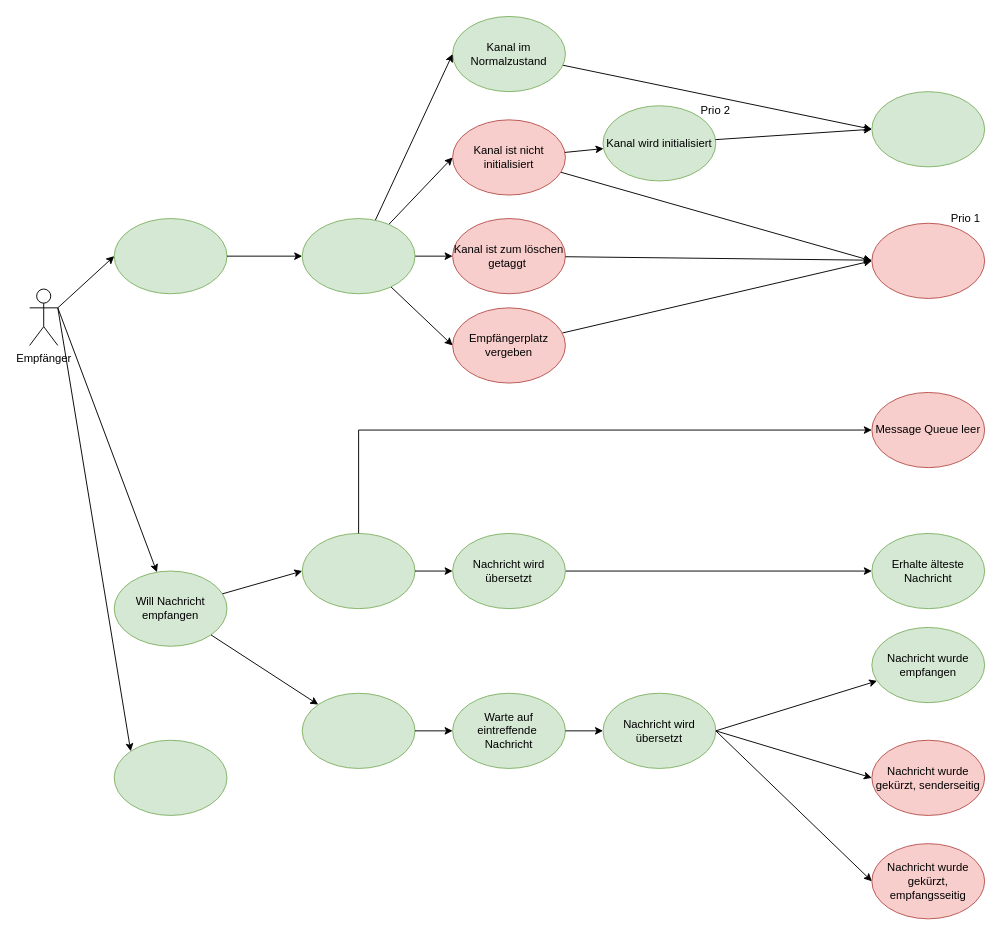
Image size: 1001x935. Some labels were removed from this diagram. Here are the shapes that lost their labels. From the top down, the box of each, then its label:
(871, 91, 985, 167): Sender bekommt Referenz auf den gewünschten Kanal
(113, 218, 227, 294): Will sich in einem Chanel anmelden
(301, 218, 415, 294): Schickt der ConnectUnit eine Verbindungsanfrage
(871, 222, 985, 298): Verbindung wird zurückgewiesen
(301, 533, 415, 609): active, NOWAIT, Polling
(301, 692, 415, 768): passive, wait
(113, 739, 227, 815): Markiert Kanal zum zerstören
